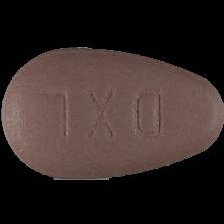0078-0360: (0, 0, 224, 224)
